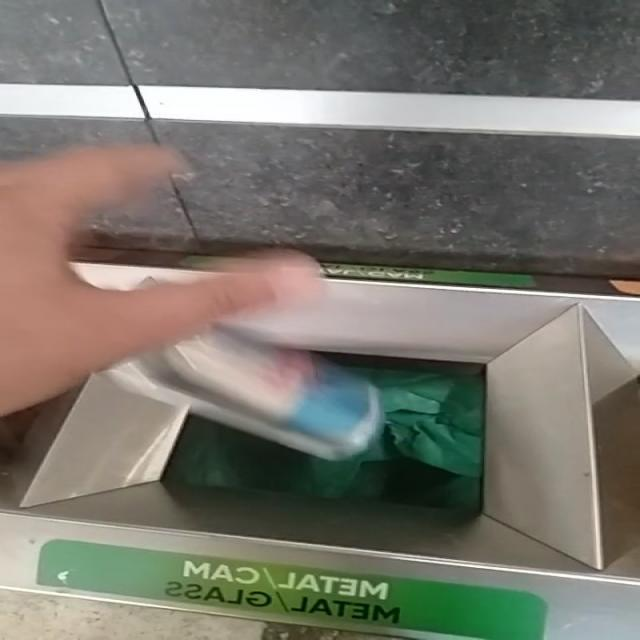Bin: (1, 268, 639, 640)
Metal: (108, 327, 383, 461)
